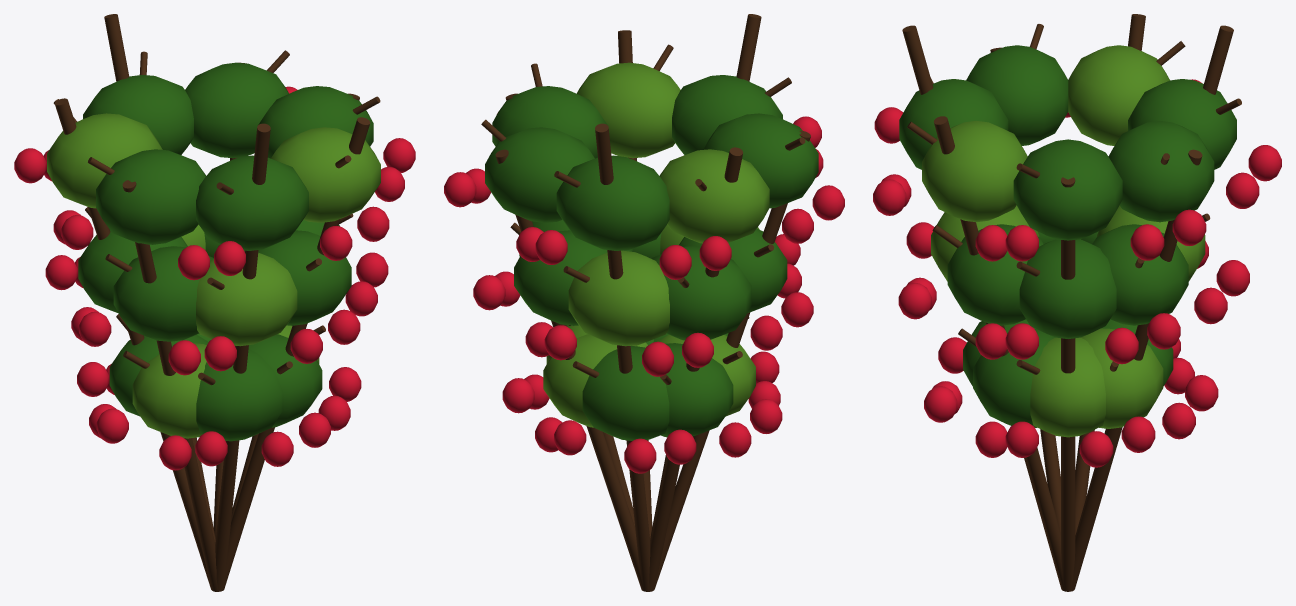
File: Malnabokor.obj
The picture shows the model from 3 angles, left to right: view 1: azimuth 30°, elevation 25°; view 2: azimuth 150°, elevation 25°; view 3: azimuth 270°, elevation 25°; orthographic projection. The views are drawn at different scales.
Bounding box in the file's own units: 1.05 × 1.51 × 1.03.
